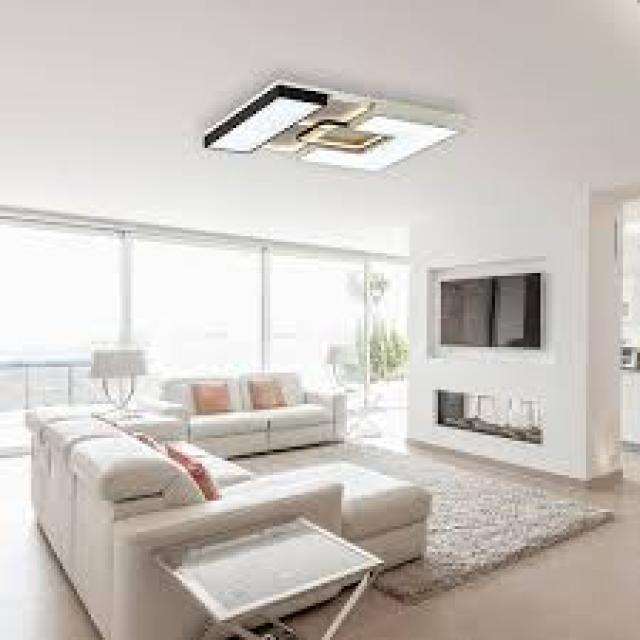Sofa: (21, 397, 430, 628), (162, 371, 354, 447)
tv: (437, 274, 546, 354)
window: (4, 216, 398, 376)
